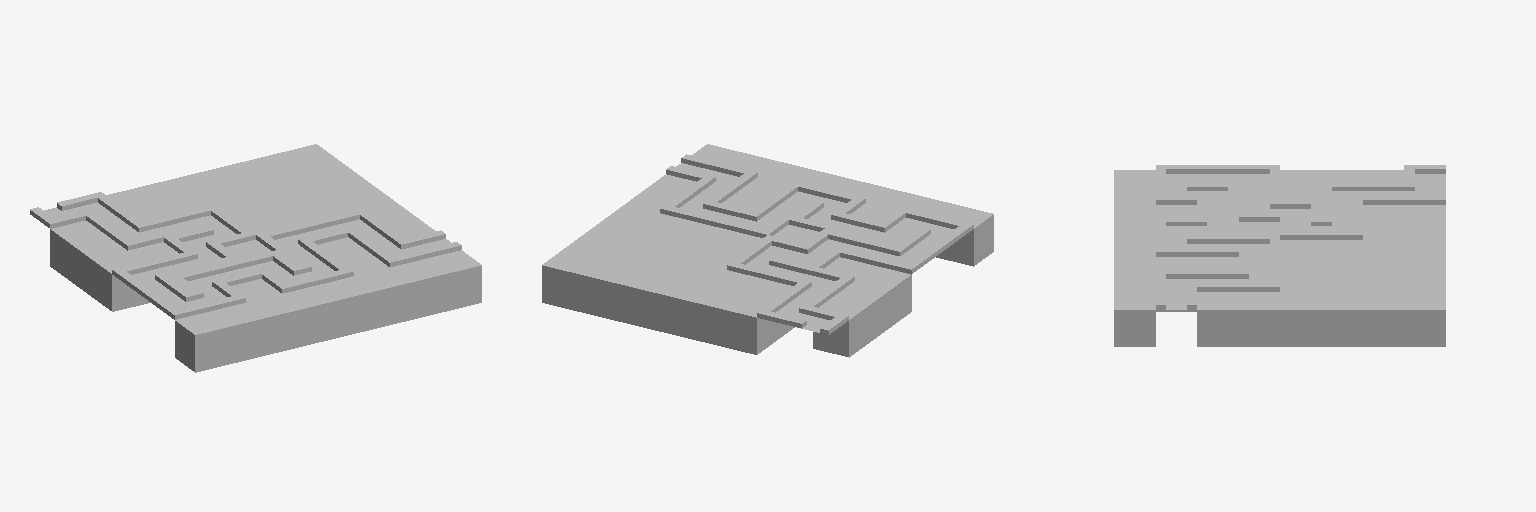
The model's file is GRN.obj.
3 renders of one model, left to right at view 1: azimuth 30°, elevation 25°; view 2: azimuth 150°, elevation 25°; view 3: azimuth 270°, elevation 25°, orthographic.
Visible parts, largest first — view 1: QMazePieceCorner, QMazePieceLine, QMazePieceEmpty 43 (135), QMazePieceEmpty 43 (134), QMazePieceEmpty 43 (133), QMazePieceEmpty 43 (128), QMazePieceEmpty 43 (132), QMazePieceEmpty 43 (129), QMazePieceEmpty 43 (130), QMazePieceEmpty 43 (123), QMazePieceEmpty 43 (131), QMazePieceEmpty 43 (120) (+24 smaller); view 2: QMazePieceCorner, QMazePieceLine, QMazePieceEmpty 43 (56), QMazePieceEmpty 43 (120), QMazePieceEmpty 43 (41), QMazePieceEmpty 43 (18), QMazePieceEmpty 43 (30), QMazePieceEmpty 43 (38), QMazePieceEmpty 43 (135), QMazePieceEmpty 43 (27), QMazePieceEmpty 43 (121), QMazePieceEmpty 43 (123) (+25 smaller); view 3: QMazePieceCorner, QMazePieceLine, QMazePieceEmpty 43 (132), QMazePieceEmpty 43 (18), QMazePieceEmpty 43 (55), QMazePieceEmpty 43 (48), QMazePieceEmpty 43 (17), QMazePieceEmpty 43 (54), QMazePieceEmpty 43 (50), QMazePieceEmpty 43 (46), QMazePieceEmpty 43 (133), QMazePieceEmpty 43 (30) (+25 smaller).
Part boxes in pixels (left/top/right/bottom): QMazePieceCorner: left=30, top=192, right=425, bottom=319; QMazePieceLine: left=86, top=207, right=461, bottom=304; QMazePieceEmpty 43 (135): left=175, top=311, right=230, bottom=372; QMazePieceEmpty 43 (134): left=247, top=294, right=302, bottom=354; QMazePieceEmpty 43 (133): left=211, top=303, right=266, bottom=363; QMazePieceEmpty 43 (128): left=283, top=285, right=338, bottom=345; QMazePieceEmpty 43 (132): left=427, top=250, right=481, bottom=311; QMazePieceEmpty 43 (129): left=354, top=268, right=410, bottom=328; QMazePieceEmpty 43 (130): left=319, top=276, right=374, bottom=337; QMazePieceEmpty 43 (123): left=92, top=251, right=147, bottom=311; QMazePieceEmpty 43 (131): left=390, top=259, right=445, bottom=319; QMazePieceEmpty 43 (120): left=50, top=221, right=106, bottom=280; QMazePieceCorner: left=660, top=163, right=973, bottom=334; QMazePieceLine: left=666, top=154, right=952, bottom=307; QMazePieceEmpty 43 (56): left=721, top=294, right=777, bottom=354; QMazePieceEmpty 43 (120): left=813, top=296, right=869, bottom=357; QMazePieceEmpty 43 (41): left=685, top=285, right=740, bottom=345; QMazePieceEmpty 43 (18): left=542, top=250, right=596, bottom=311; QMazePieceEmpty 43 (30): left=613, top=268, right=669, bottom=328; QMazePieceEmpty 43 (38): left=649, top=276, right=704, bottom=337; QMazePieceEmpty 43 (135): left=938, top=205, right=993, bottom=266; QMazePieceEmpty 43 (27): left=578, top=259, right=633, bottom=319; QMazePieceEmpty 43 (121): left=835, top=281, right=890, bottom=341; QMazePieceEmpty 43 (123): left=856, top=266, right=911, bottom=326; QMazePieceCorner: left=1156, top=165, right=1445, bottom=291; QMazePieceLine: left=1156, top=165, right=1403, bottom=309; QMazePieceEmpty 43 (132): left=1114, top=292, right=1155, bottom=346; QMazePieceEmpty 43 (18): left=1404, top=292, right=1445, bottom=346; QMazePieceEmpty 43 (55): left=1197, top=292, right=1238, bottom=346; QMazePieceEmpty 43 (48): left=1321, top=292, right=1362, bottom=346; QMazePieceEmpty 43 (17): left=1363, top=292, right=1403, bottom=346; QMazePieceEmpty 43 (54): left=1239, top=292, right=1279, bottom=346; QMazePieceEmpty 43 (50): left=1280, top=292, right=1320, bottom=346; QMazePieceEmpty 43 (46): left=1321, top=257, right=1362, bottom=274; QMazePieceEmpty 43 (133): left=1114, top=187, right=1155, bottom=204; QMazePieceEmpty 43 (30): left=1404, top=257, right=1445, bottom=274.
Size of the model in its own units: 40 by 5.62 by 40.